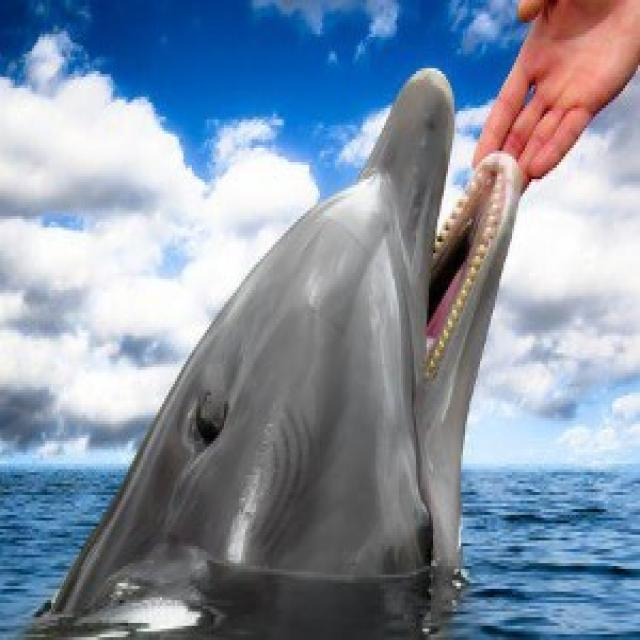Dolphin: (33, 61, 525, 624)
